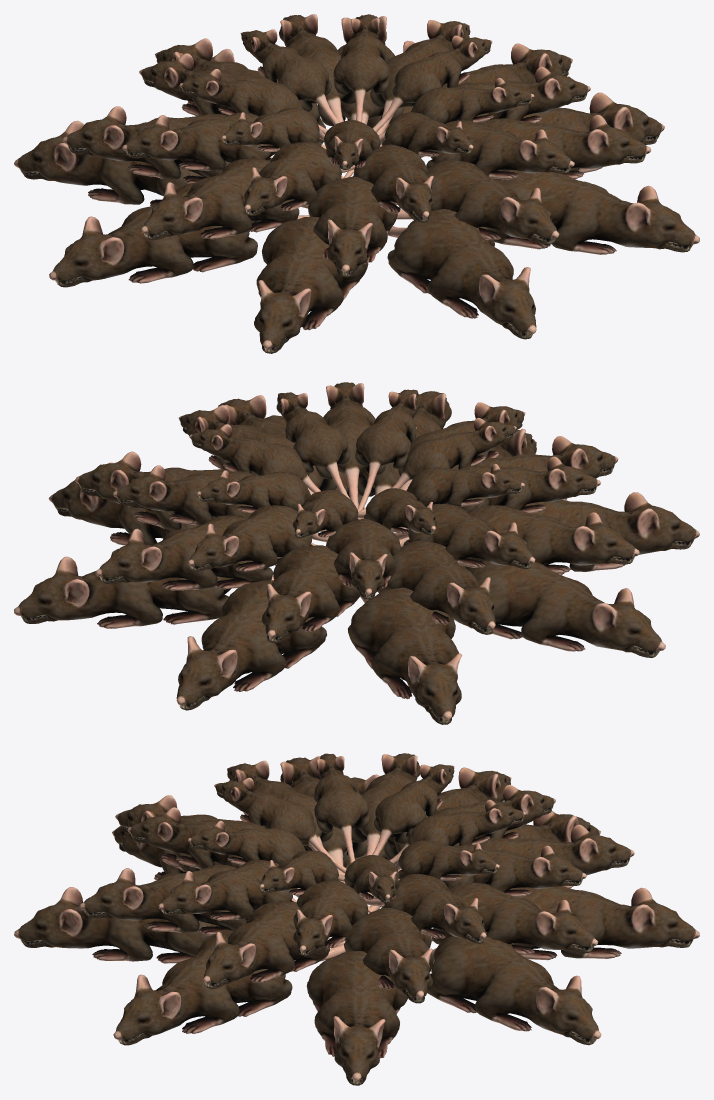
The model's file is MZ4250 - Swarm of Rats.glb.
3 views of the same model, one above another, from view 1: azimuth 30°, elevation 25°; view 2: azimuth 150°, elevation 25°; view 3: azimuth 270°, elevation 25° (orthographic). The views are drawn at different scales.
Visible parts, largest first — view 1: ORGANIC BASE SPHERE.019; view 2: ORGANIC BASE SPHERE.019; view 3: ORGANIC BASE SPHERE.019.
Part boxes in pixels (<box>): ORGANIC BASE SPHERE.019: <box>14,14,699,353</box>; ORGANIC BASE SPHERE.019: <box>14,382,699,724</box>; ORGANIC BASE SPHERE.019: <box>14,753,699,1085</box>.
Size of the model in its own units: 0.5175 by 0.1136 by 0.5175.
32 materials, 32 textured.
